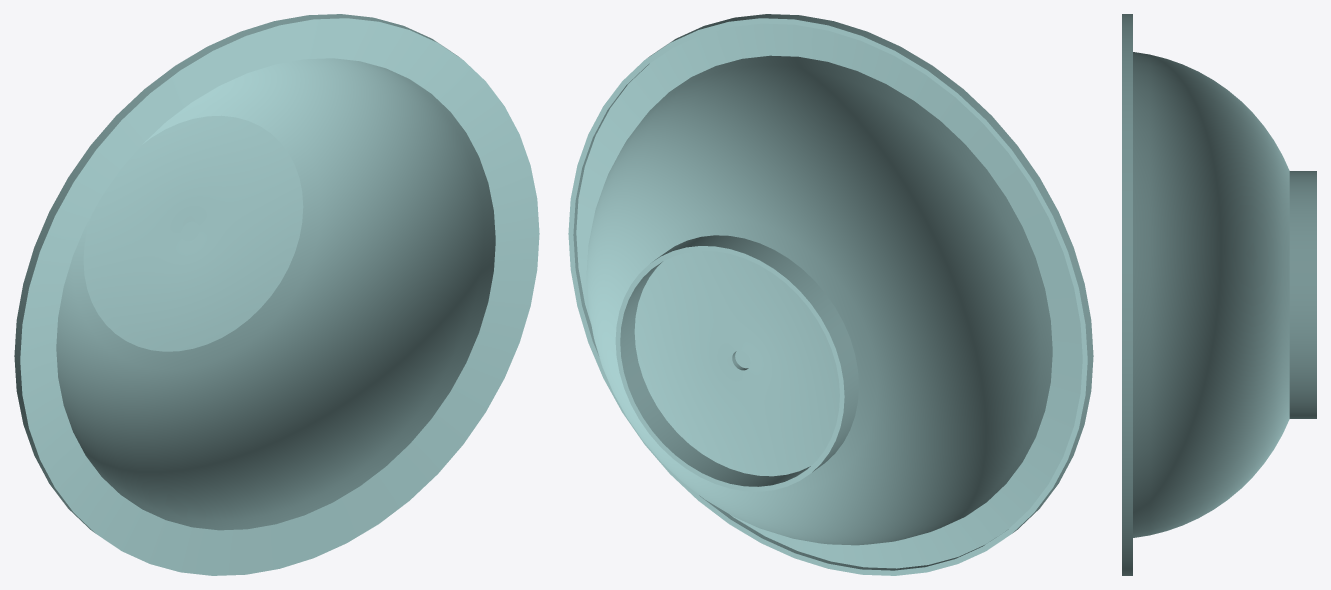
The model's file is model_align.obj.
3 views of the same model, side by side, from view 1: azimuth 30°, elevation 25°; view 2: azimuth 150°, elevation 25°; view 3: azimuth 270°, elevation 25° (orthographic). The views are drawn at different scales.
Visible parts, largest first — view 1: mesh1_mesh1-geometry; view 2: mesh1_mesh1-geometry; view 3: mesh1_mesh1-geometry.
Part boxes in pixels (x1,y1,x2,y2): mesh1_mesh1-geometry: (14,14,539,575); mesh1_mesh1-geometry: (568,14,1093,575); mesh1_mesh1-geometry: (1122,14,1316,575).
Bounding box in the file's own units: 0.1605 × 0.1605 × 0.0556.
